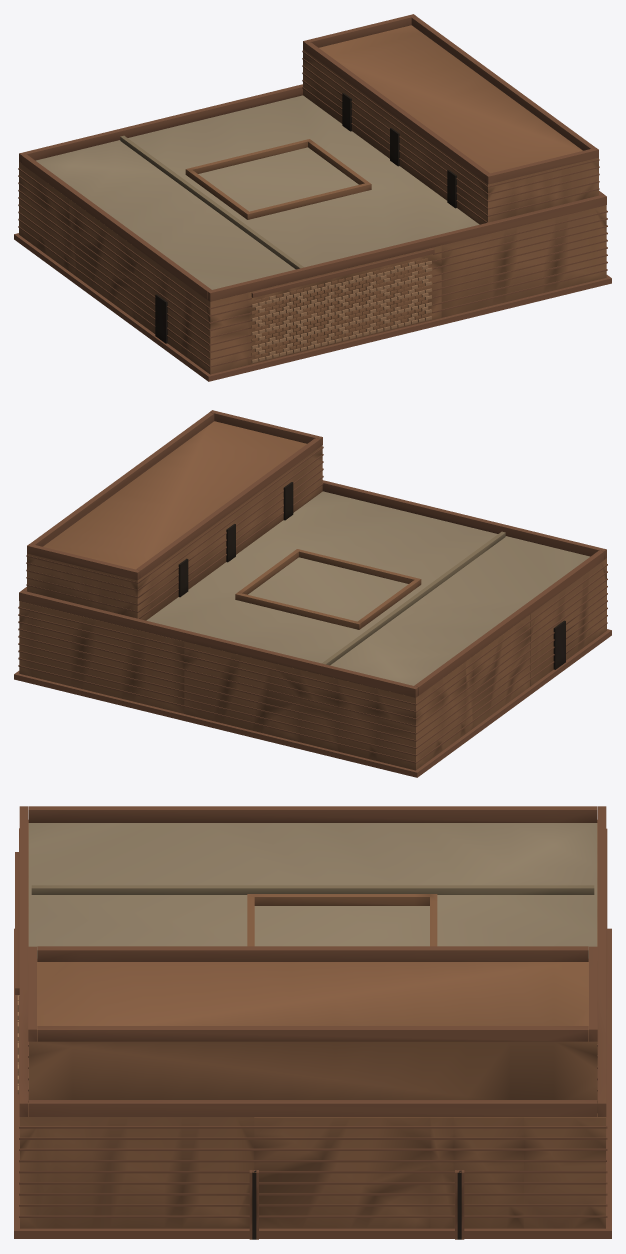
Rendered from priest-king-house.glb.
3 views of the same model, one above another, from view 1: azimuth 30°, elevation 25°; view 2: azimuth 150°, elevation 25°; view 3: azimuth 270°, elevation 25° (orthographic). The views are drawn at different scales.
Parts seen in each view (by area): view 1: p2_roofs and upper storey, p0_walls and court, p1_ornamental wall; view 2: p2_roofs and upper storey, p0_walls and court, p1_ornamental wall; view 3: p2_roofs and upper storey, p0_walls and court, p1_ornamental wall.
Boxes of the visible parts, left/top/right/bottom form: p2_roofs and upper storey: left=19, top=14, right=606, bottom=301; p0_walls and court: left=14, top=139, right=611, bottom=381; p1_ornamental wall: left=155, top=248, right=434, bottom=362; p2_roofs and upper storey: left=19, top=410, right=606, bottom=697; p0_walls and court: left=14, top=549, right=611, bottom=777; p1_ornamental wall: left=553, top=620, right=565, bottom=669; p2_roofs and upper storey: left=19, top=806, right=606, bottom=1116; p0_walls and court: left=14, top=820, right=611, bottom=1238; p1_ornamental wall: left=15, top=852, right=464, bottom=1239.
Size of the model in its own units: 24.44 by 7.66 by 20.4.
